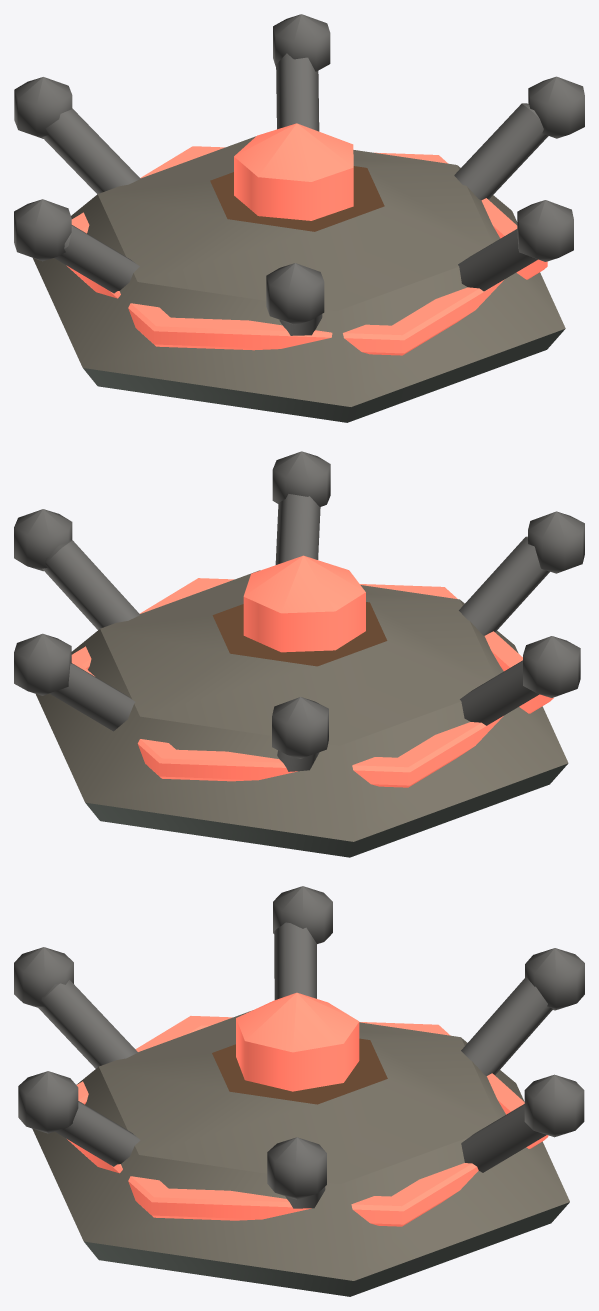
Rendered from R4D_ExplosiveTrap_LOD1.fbx.
3 renders of one model, top to bottom at view 1: azimuth 30°, elevation 25°; view 2: azimuth 150°, elevation 25°; view 3: azimuth 270°, elevation 25°, orthographic.
Parts seen in each view (by area): view 1: R4D_ExplosiveTrap_LOD1; view 2: R4D_ExplosiveTrap_LOD1; view 3: R4D_ExplosiveTrap_LOD1.
Boxes of the visible parts, bbox=[...] form: R4D_ExplosiveTrap_LOD1: bbox=[14, 14, 584, 422]; R4D_ExplosiveTrap_LOD1: bbox=[14, 451, 584, 857]; R4D_ExplosiveTrap_LOD1: bbox=[14, 886, 584, 1296].
Bounding box in the file's own units: 0.4917 × 0.16 × 0.4292.
